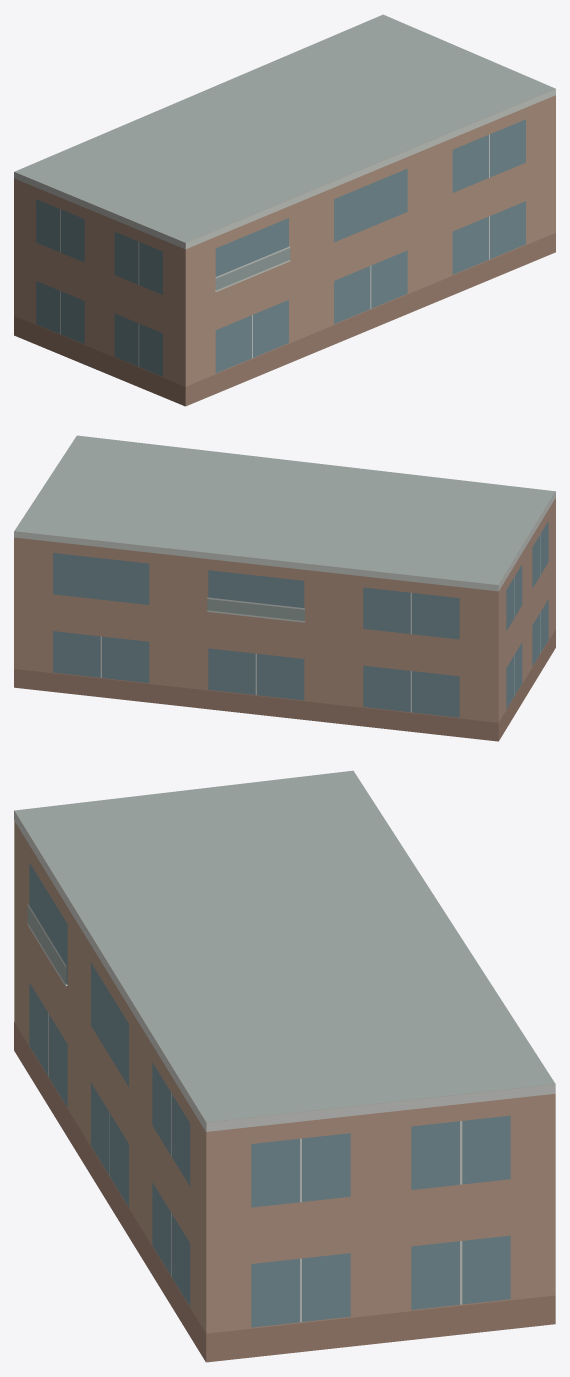
File: survey-upis-32648754.glb
3 renders of one model, top to bottom at view 1: azimuth 30°, elevation 25°; view 2: azimuth 150°, elevation 25°; view 3: azimuth 270°, elevation 25°, orthographic. The views are drawn at different scales.
Visible parts, largest first — view 1: survey-upis-32648754.tmp; view 2: survey-upis-32648754.tmp; view 3: survey-upis-32648754.tmp.
Boxes of the visible parts, box(x1,y1,x2,y2) form: survey-upis-32648754.tmp: box(14, 14, 555, 406); survey-upis-32648754.tmp: box(14, 435, 555, 741); survey-upis-32648754.tmp: box(14, 770, 555, 1362).
Size of the model in its own units: 19.19 by 6.1 by 12.49.
